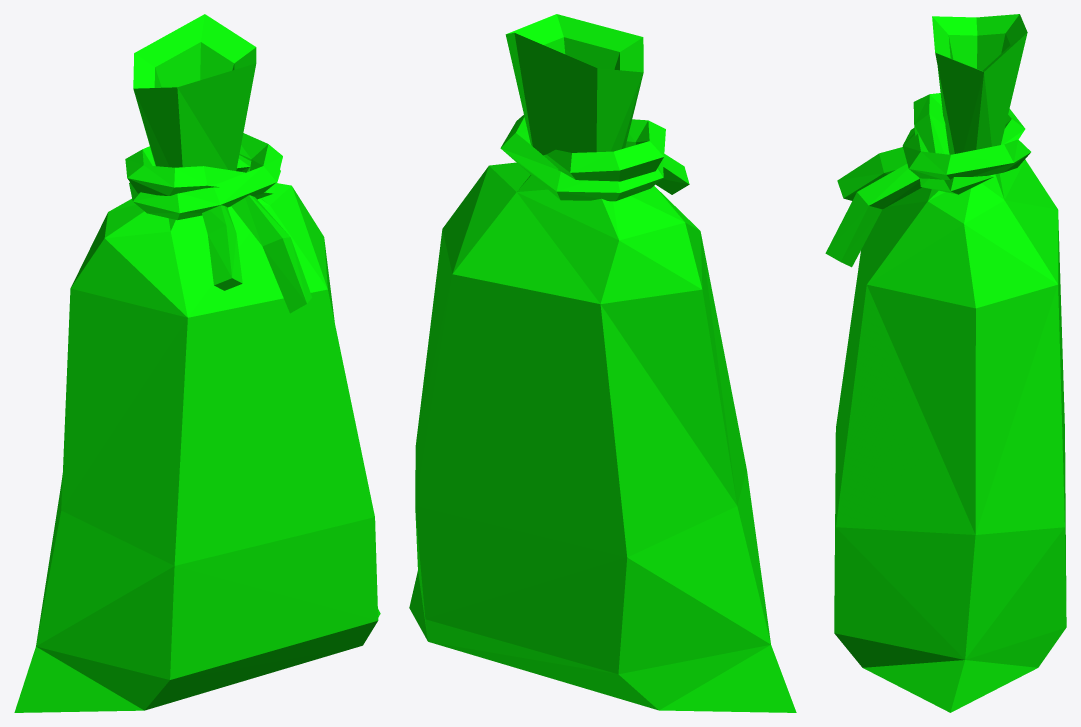
Rendered from SM_Bag_Tied_Small_Spice.fbx.
3 renders of one model, left to right at view 1: azimuth 30°, elevation 25°; view 2: azimuth 150°, elevation 25°; view 3: azimuth 270°, elevation 25°, orthographic. The views are drawn at different scales.
Parts seen in each view (by area): view 1: bag-tied-small-spice; view 2: bag-tied-small-spice; view 3: bag-tied-small-spice.
Part boxes in pixels (x1,y1,x2,y2): bag-tied-small-spice: [14, 14, 380, 712]; bag-tied-small-spice: [409, 14, 796, 712]; bag-tied-small-spice: [825, 14, 1066, 712].
Size of the model in its own units: 0.1384 by 0.2222 by 0.078.
